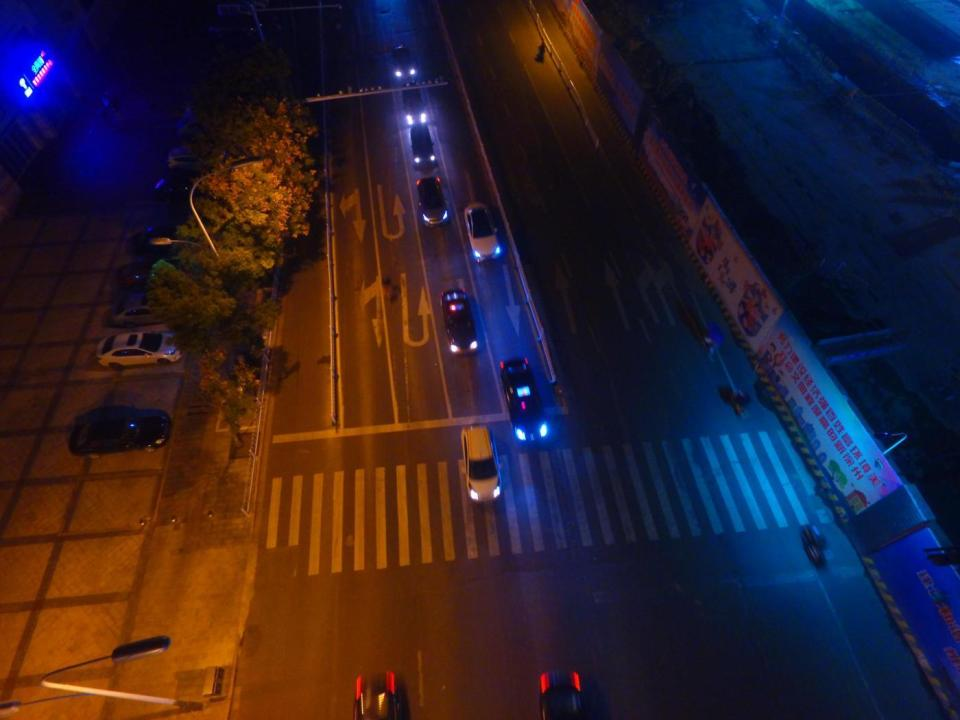car: (66, 406, 173, 461), (498, 357, 550, 447), (460, 421, 503, 503), (96, 331, 186, 368), (129, 220, 211, 254), (104, 291, 185, 325), (350, 668, 401, 720), (462, 200, 502, 264), (440, 289, 478, 356), (538, 666, 585, 720), (115, 258, 184, 288), (153, 176, 218, 206), (414, 176, 449, 227), (165, 142, 224, 172), (410, 123, 436, 168), (400, 81, 426, 124), (391, 45, 417, 82)
